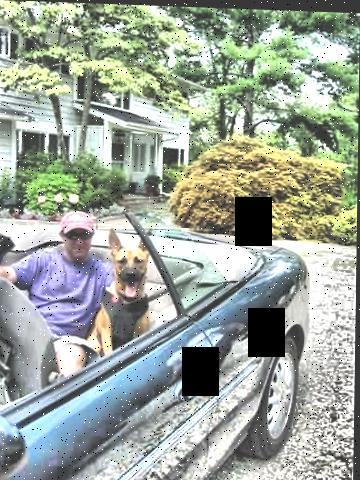seatbelt: (145, 267, 213, 303)
